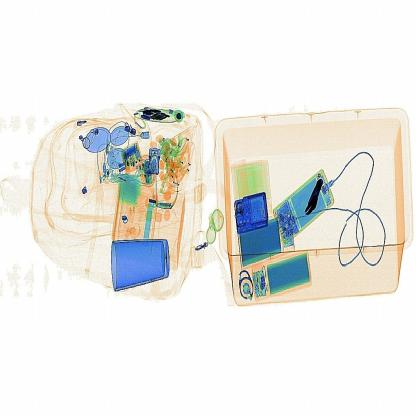knife: (300, 173, 330, 224)
